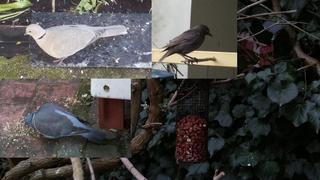collared dove: (24, 24, 128, 65)
starling: (158, 24, 213, 65)
wood pigeon: (24, 103, 107, 145)
